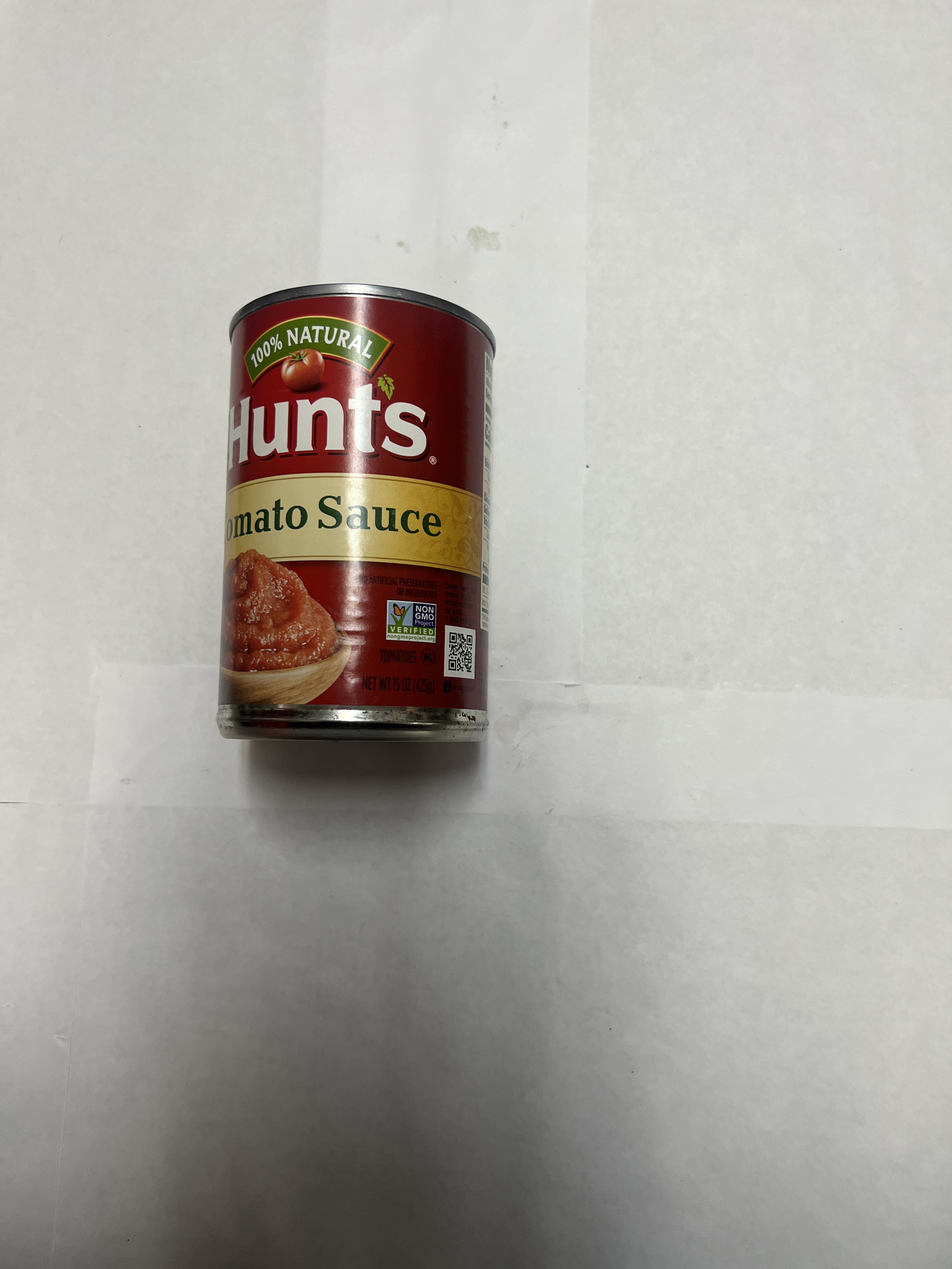packaged: (215, 278, 501, 755)
